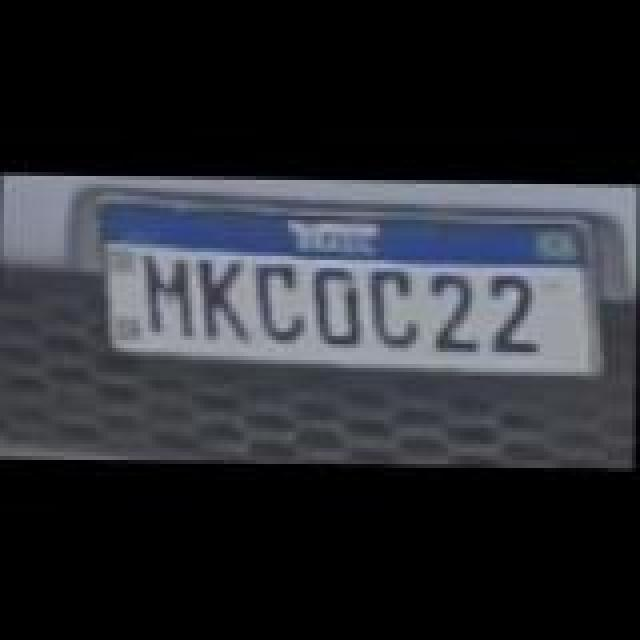2: (486, 272, 542, 352), (426, 270, 482, 350)
C: (370, 266, 426, 346), (256, 260, 308, 340)
D: (310, 264, 366, 344)
K: (196, 256, 256, 340)
M: (142, 252, 198, 336)
